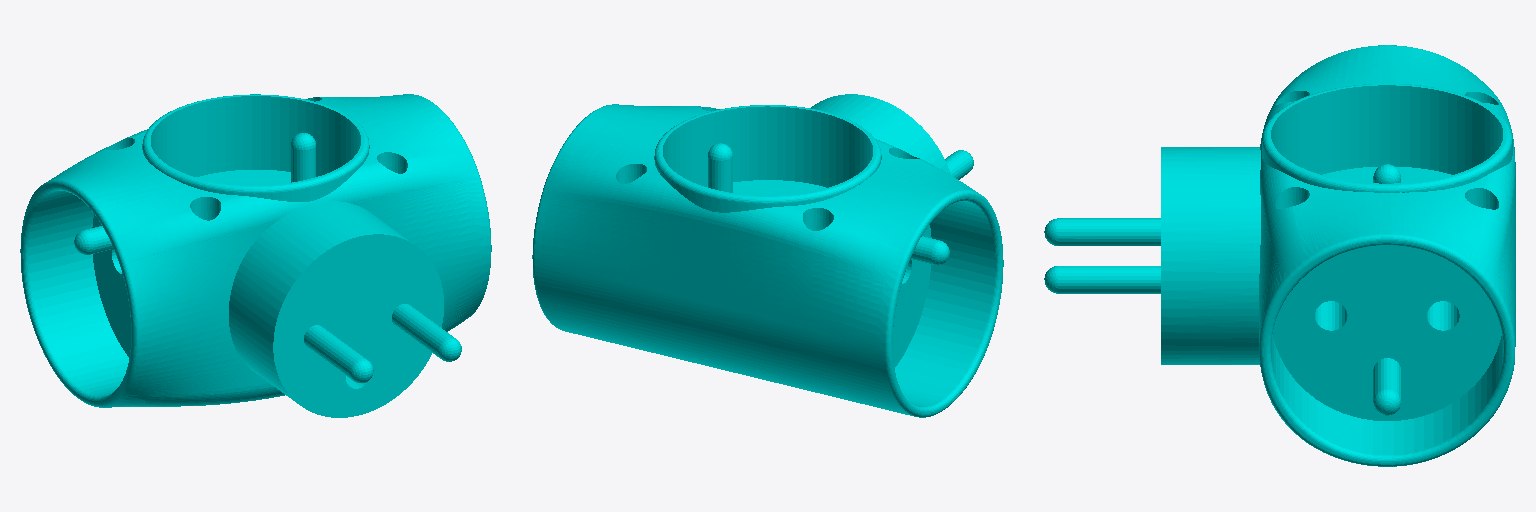
URDF robot description (obj_000022):
<?xml version="1.0" ?>
<robot name="obj_000022">
   <link name="base_link">
      <visual>
         <geometry>
            <mesh filename="package://agimus_demo_05_pick_and_place/urdf/tless/obj_22.obj" scale="0.001 0.001 0.001"/>
         </geometry>
         <material name="mat_part0">
            <color rgba="0.0 0.9 0.9 1.0"/>
         </material>
      </visual>
      <collision>
         <geometry>
            <mesh filename="package://agimus_demo_05_pick_and_place/urdf/tless/obj_22.obj" scale="0.001 0.001 0.001"/>
         </geometry>
      </collision>
      <inertial>
         <origin rpy="0 0 0" xyz="0.0 0.0 0.0"/>
         <mass value="0.1"/>
         <inertia ixx="1" ixy="0" ixz="0" iyy="1" iyz="0" izz="1"/>
      </inertial>
   </link>
</robot>

--- Facts derived from the render (not from the file) ---
Views: 3 orthographic renders of the robot side by side, from view 1: azimuth 30°, elevation 25°; view 2: azimuth 150°, elevation 25°; view 3: azimuth 270°, elevation 25°.
Robot: obj_000022 — 1 links, 0 joints (none); root link base_link; default pose: all joints at 0.
Links seen in each view (by area): view 1: base_link; view 2: base_link; view 3: base_link.
Link boxes in pixels (x1,y1,x2,y2): base_link: (20, 94, 491, 417); base_link: (532, 94, 1003, 417); base_link: (1044, 45, 1515, 466).
Size in the robot's own frame: 0.0769 by 0.079 by 0.044 metres.
Meshes: 1 distinct files referenced, 1 mesh visuals loaded (1 OBJ).
